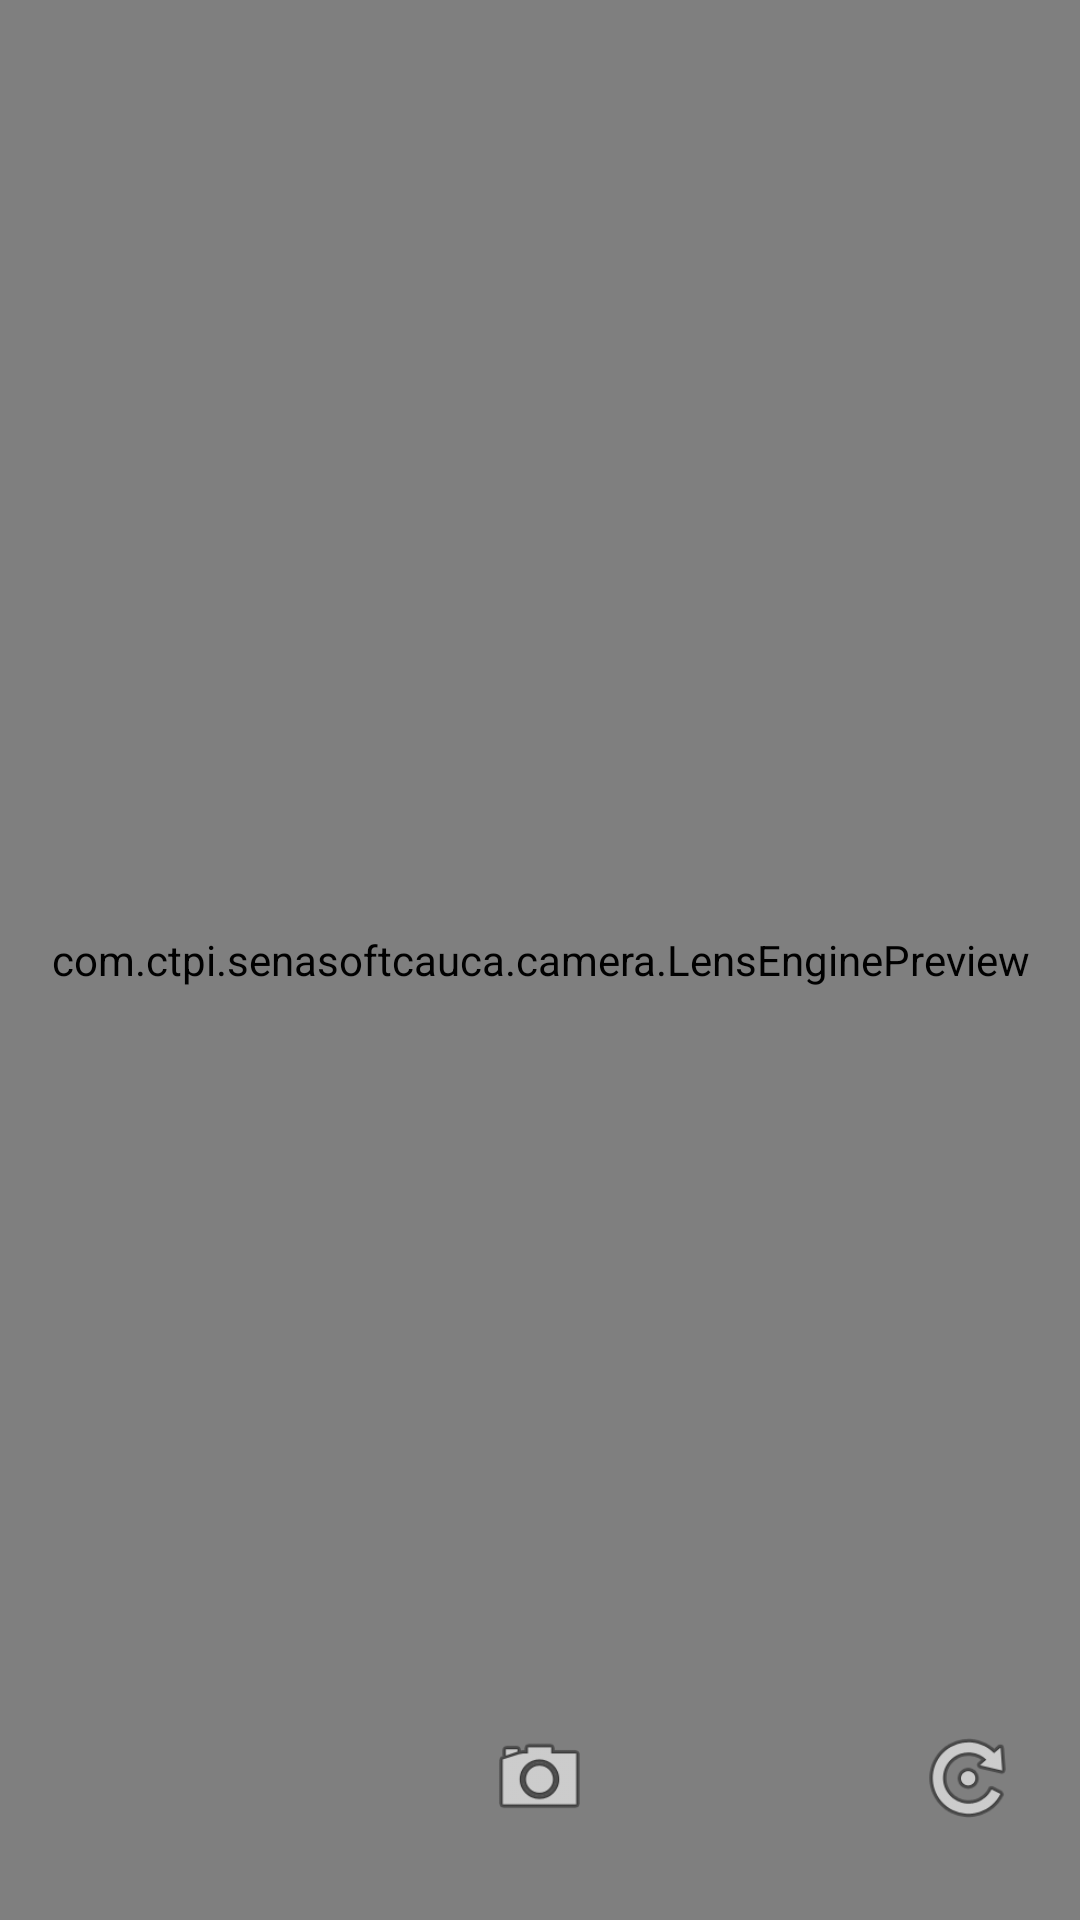

Named icons in this screenshot (1080 × 1920) and their centers, (x=x, y=y):
rotate: (x=967, y=1778)
